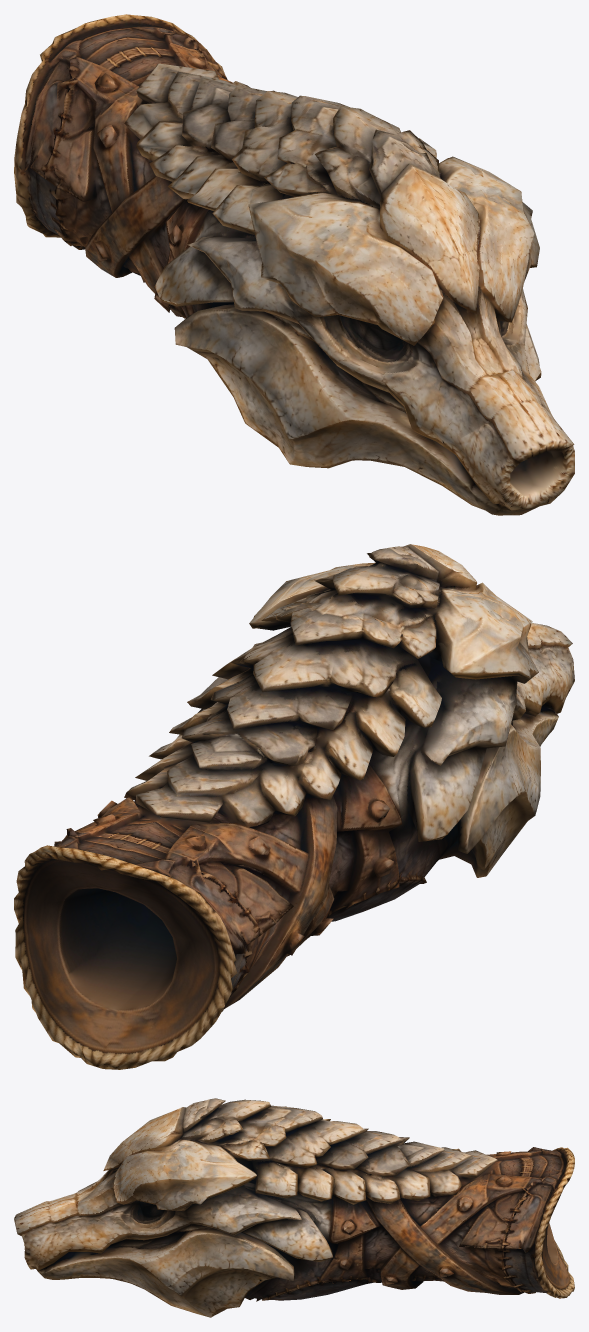
Rendered from dog-knuckles.glb.
The picture shows the model from 3 angles, top to bottom: view 1: azimuth 30°, elevation 25°; view 2: azimuth 150°, elevation 25°; view 3: azimuth 270°, elevation 25°; orthographic projection. The views are drawn at different scales.
Visible parts, largest first — view 1: knn_000000; view 2: knn_000000; view 3: knn_000000.
Boxes of the visible parts, box(x1,y1,x2,y2) form: knn_000000: box(14, 14, 574, 515); knn_000000: box(14, 544, 574, 1069); knn_000000: box(14, 1098, 574, 1317).
Bounding box in the file's own units: 0.3787 × 0.3809 × 1.
Materials: 1 (1 with a texture image).
